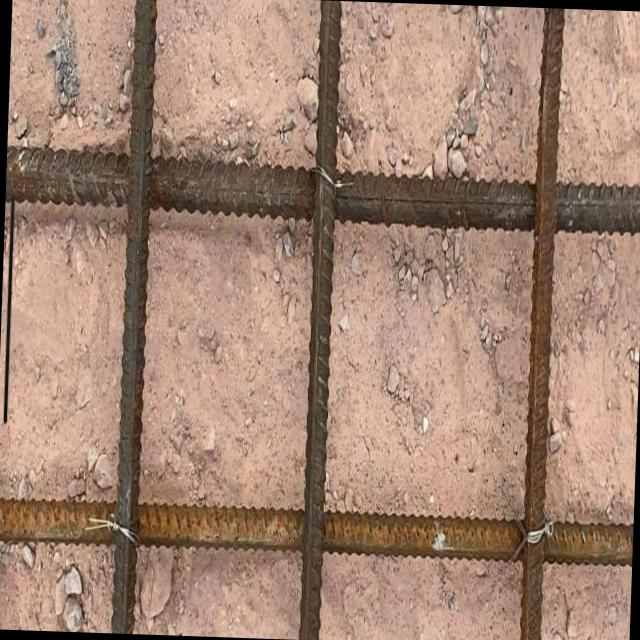ribbed bar: (4, 146, 640, 235), (0, 500, 633, 570), (111, 0, 157, 633), (519, 9, 564, 640), (298, 2, 342, 640)
